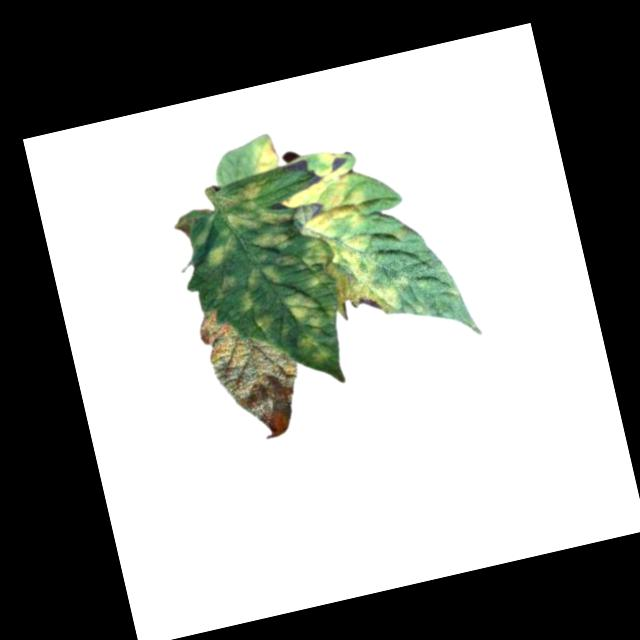Leaf_Mold: (166, 162, 361, 405), (272, 139, 415, 331), (195, 297, 312, 449), (251, 138, 281, 176)
